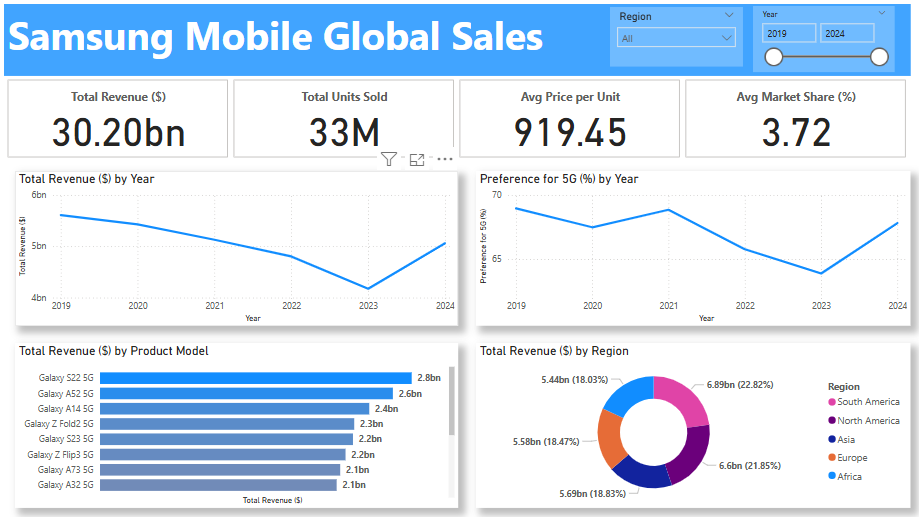

The dashboard page shown, as its layout file describes it:
{"tool":"powerbi","page":{"name":"Exec Summary","canvas":[1280,720],"ordinal":0},"visuals":[{"type":"cardVisual","fields":{"Data":["Sum(Samsung.Revenue ($))","Sum(Samsung.Units Sold)","Samsung.Avg Price per Unit","Avg(Samsung.Market Share (%))"]},"box":[6.7,112.5,1248.1,117.6],"z":0},{"type":"stackedAreaChart","fields":{"Category":["Samsung.Year"],"Y":["Sum(Samsung.Revenue ($))"]},"box":[21.8,243.6,609.8,213.3],"z":1000},{"type":"barChart","fields":{"Category":["Samsung.Product Model"],"Y":["Sum(Samsung.Revenue ($))"]},"box":[21.8,480.4,609.8,226.8],"z":2000},{"type":"donutChart","fields":{"Category":["Samsung.Region"],"Y":["Sum(Samsung.Revenue ($))"]},"box":[656.8,480.4,598,226.8],"z":3000},{"type":"lineChart","fields":{"Category":["Samsung.Year"],"Y":["Avg(Samsung.Preference for 5G (%))"]},"box":[656.8,243.6,598,213.3],"z":4000},{"type":"textbox","box":[6.7,13.4,1248.1,99.1],"z":5000},{"type":"slicer","fields":{"Values":["Samsung.Year"]},"box":[1038.1,16.8,194.9,90.7],"z":6000},{"type":"slicer","fields":{"Values":["Samsung.Region"]},"box":[841.6,18.5,183.1,82.3],"z":7000}]}

Visuals, with their boxes in screenshot pixels (x1, y1, x2, y2), scaled from the page's 1280x720 canvas onto the 919x517 screenshot:
cardVisual - Sum(Samsung.Revenue ($)) x Sum(Samsung.Units Sold): 5 81 901 165
stackedAreaChart - Samsung.Year x Sum(Samsung.Revenue ($)): 16 175 453 328
barChart - Samsung.Product Model x Sum(Samsung.Revenue ($)): 16 345 453 508
donutChart - Samsung.Region x Sum(Samsung.Revenue ($)): 472 345 901 508
lineChart - Samsung.Year x Avg(Samsung.Preference for 5G (%)): 472 175 901 328
textbox: 5 10 901 81
slicer - Samsung.Year: 745 12 885 77
slicer - Samsung.Region: 604 13 736 72
